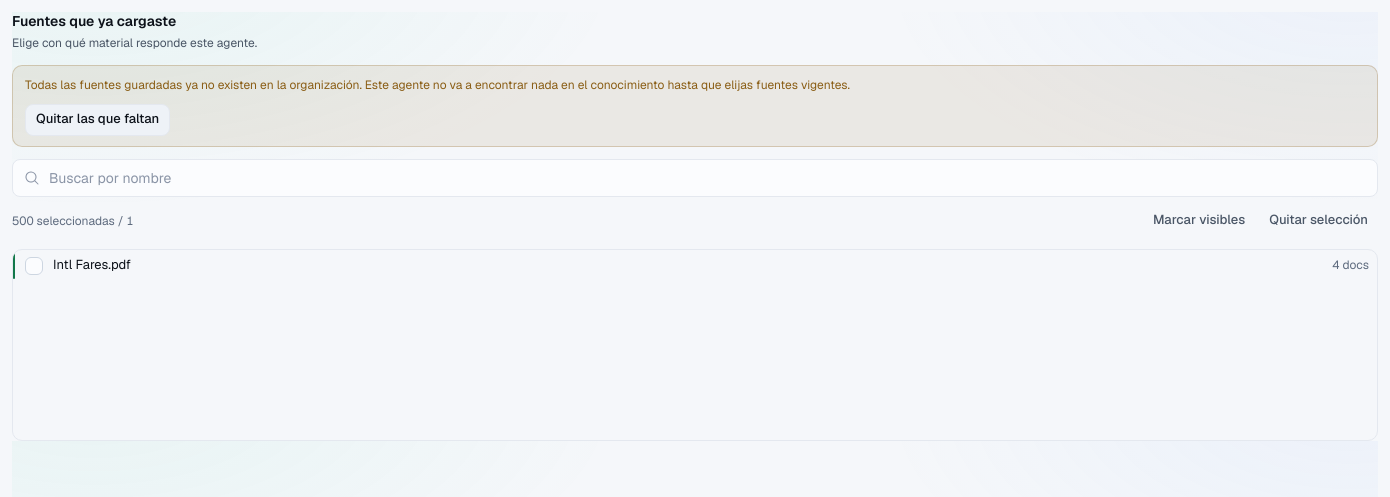
Scenario: AgentSourcePicker › el tope bloquea el ítem 501
The width and height of the screenshot is (1390, 497).
Click the checkbox at [34, 266], box [25,257,43,275]
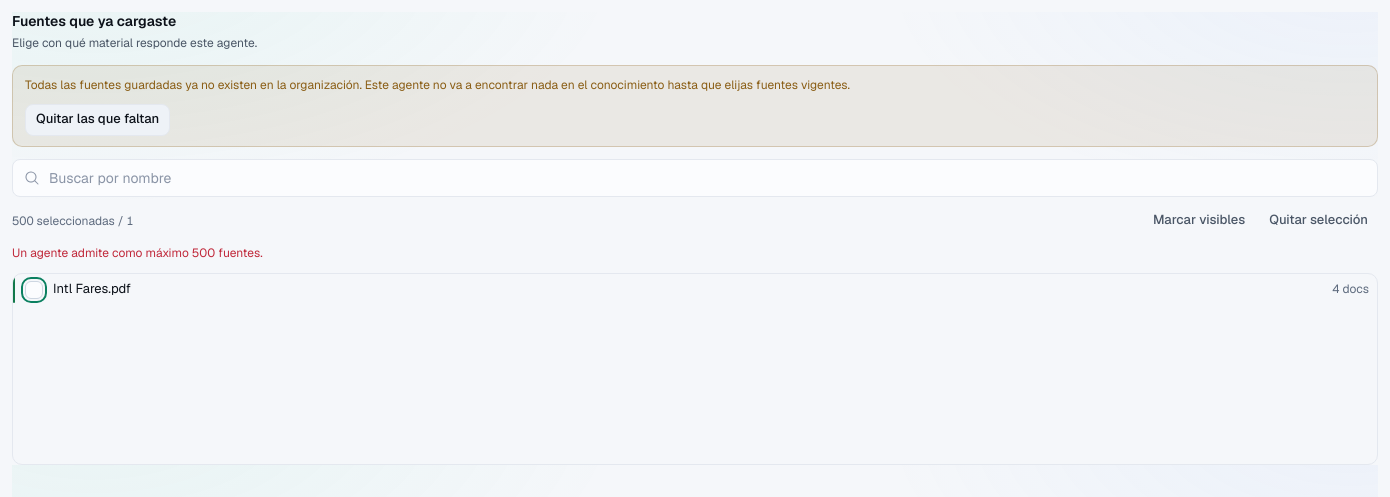
Expected: the text "Un agente admite como máximo 500 fuentes." is shown, [12,245,263,261]
